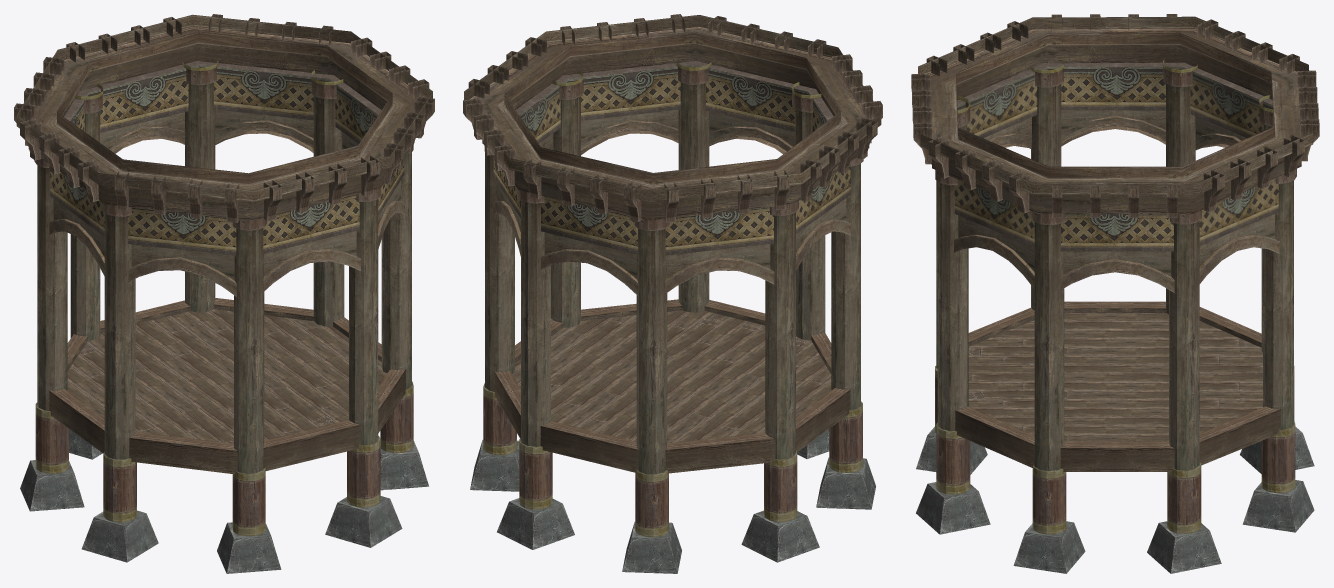
The model's file is bg_anh_mirrorv_octapavilion01_sm_cwk.FBX.
The picture shows the model from 3 angles, left to right: view 1: azimuth 30°, elevation 25°; view 2: azimuth 150°, elevation 25°; view 3: azimuth 270°, elevation 25°; orthographic projection.
Parts seen in each view (by area): view 1: bg_anh_mirrorv_octapavilion01_sm_cwk; view 2: bg_anh_mirrorv_octapavilion01_sm_cwk; view 3: bg_anh_mirrorv_octapavilion01_sm_cwk.
Boxes of the visible parts, x1,y1,x2,y2 form: bg_anh_mirrorv_octapavilion01_sm_cwk: (14, 14, 434, 573); bg_anh_mirrorv_octapavilion01_sm_cwk: (463, 14, 882, 573); bg_anh_mirrorv_octapavilion01_sm_cwk: (911, 14, 1319, 573).
Size of the model in its own units: 470 by 498 by 473.
